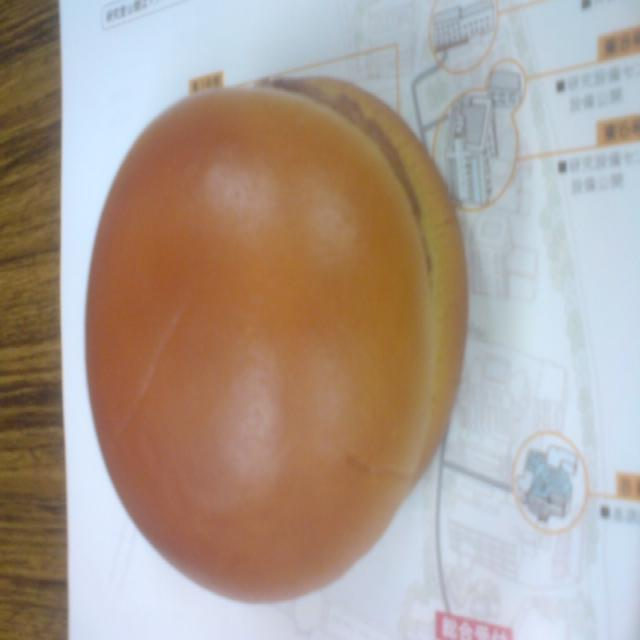Hamburger: (76, 58, 490, 606)
